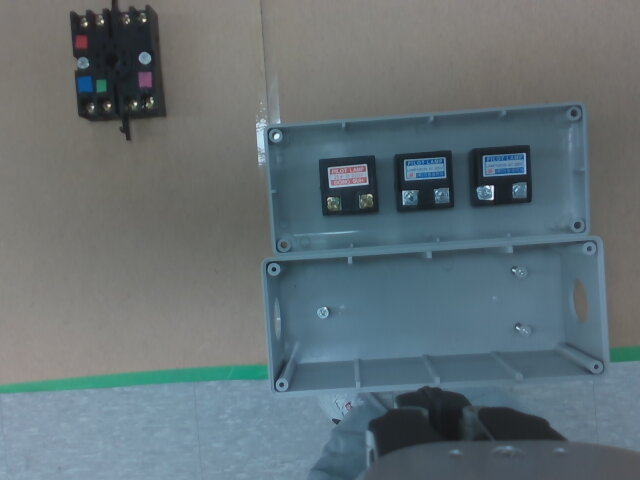L1(1): (326, 196, 341, 209)
L1(2): (358, 194, 374, 208)
L2(1): (402, 190, 418, 205)
L2(2): (435, 188, 450, 202)
L3(1): (476, 186, 494, 199)
L3(2): (512, 184, 529, 197)
